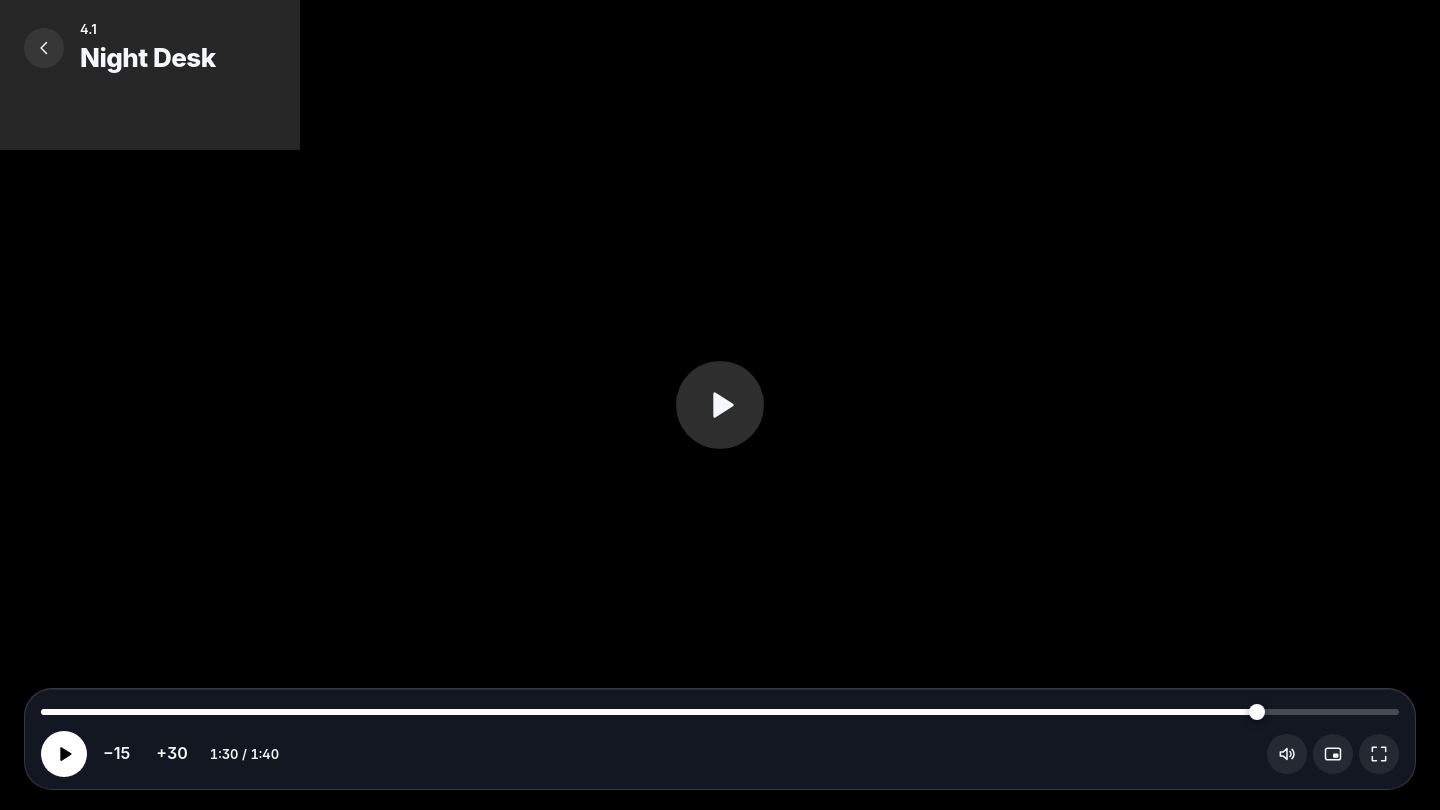
Test case: a paused picture offers play, and a loading picture does not
Click the button with class "stage-fab" at (720, 405), box [676,361,764,449]
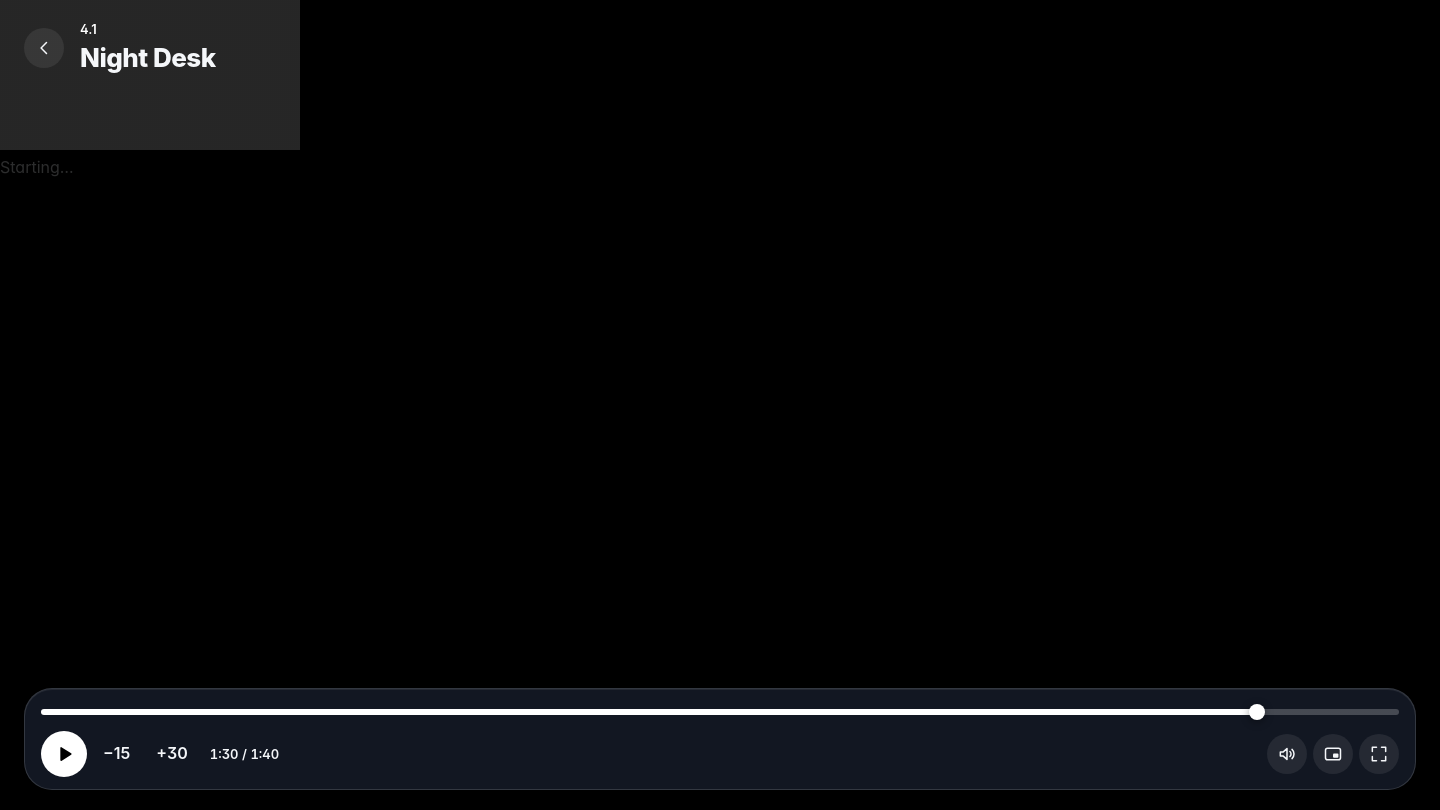
Expected: the text "Starting…" is shown, [0,157,74,177]
Expected: the button with class "stage-fab" is gone
